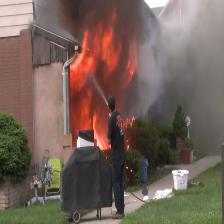fire: (57, 9, 145, 163)
nofire: (176, 141, 198, 166)
smoke: (145, 0, 224, 138)
